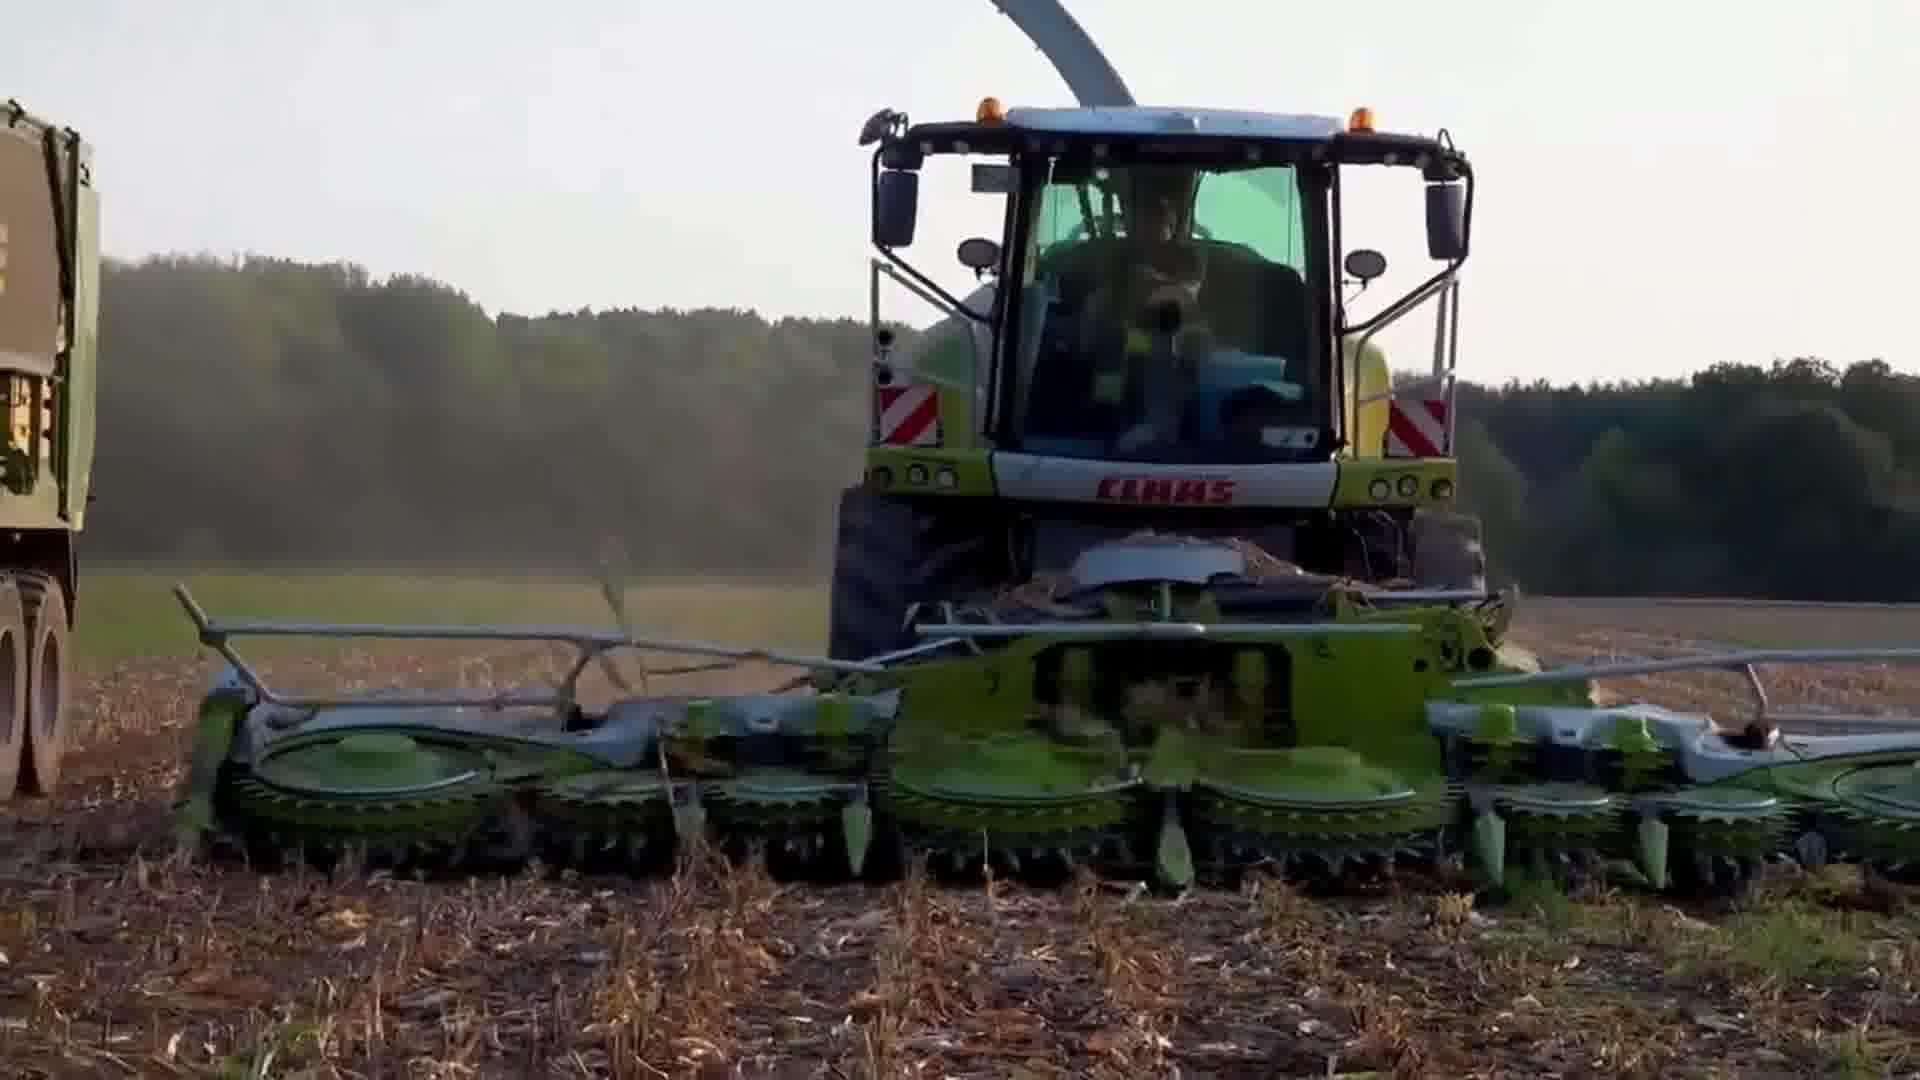combine harvester: (145, 11, 1920, 910)
trailer: (0, 83, 108, 816)
